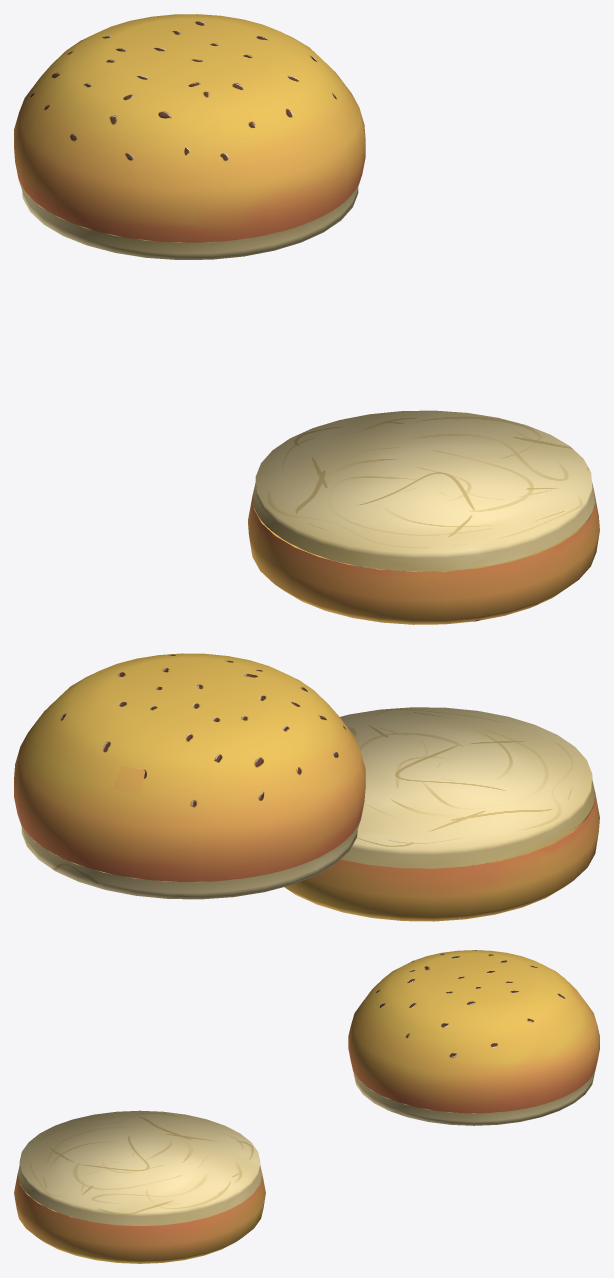
Rendered from pãozinho feliz.dae.
The picture shows the model from 3 angles, top to bottom: view 1: azimuth 30°, elevation 25°; view 2: azimuth 150°, elevation 25°; view 3: azimuth 270°, elevation 25°; orthographic projection. The views are drawn at different scales.
Visible parts, largest first — view 1: Circle, Circle_001; view 2: Circle, Circle_001; view 3: Circle, Circle_001.
Part boxes in pixels (box(x1,y1,x2,y2)): Circle: box(14, 14, 365, 259); Circle_001: box(248, 410, 599, 624); Circle: box(14, 653, 365, 899); Circle_001: box(284, 707, 599, 921); Circle: box(348, 950, 599, 1125); Circle_001: box(14, 1110, 265, 1263).
Size of the model in its own units: 2 by 4.66 by 2.08.
Materials: 2 (2 with a texture image).
